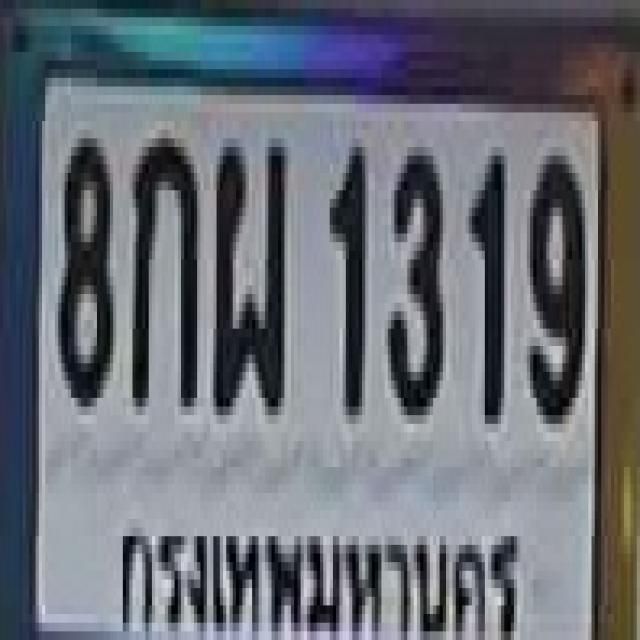1: (326, 138, 362, 406), (465, 147, 501, 415)
3: (384, 138, 440, 406)
8: (55, 130, 110, 398)
9: (527, 147, 582, 415)
A01: (129, 130, 194, 398)
A28: (210, 130, 285, 406)
BKK: (113, 509, 527, 640)
